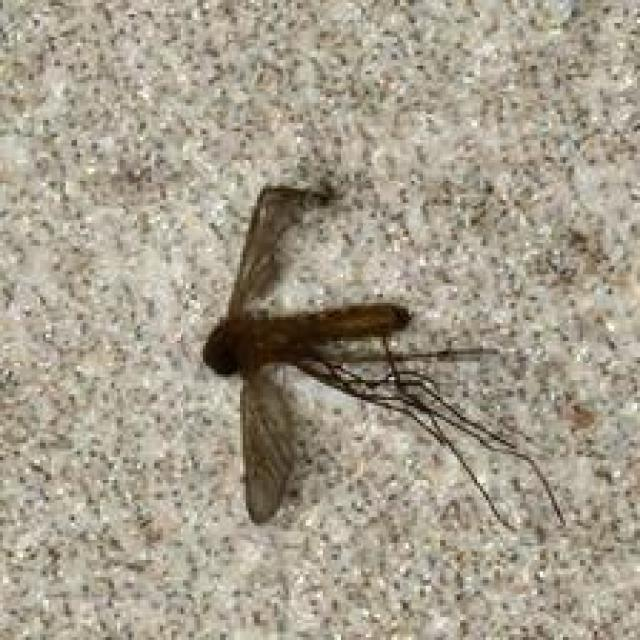Culex: (202, 180, 567, 534)
